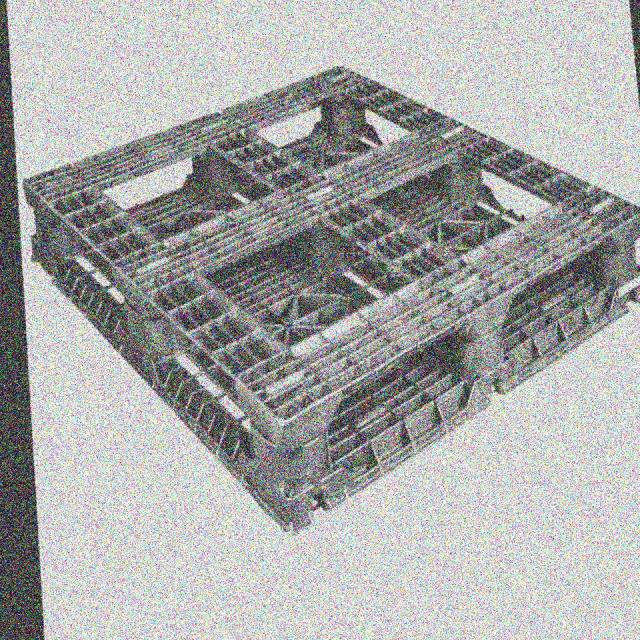non-igps: (20, 64, 640, 536)
